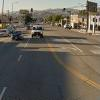Car: (27, 21, 52, 44)
